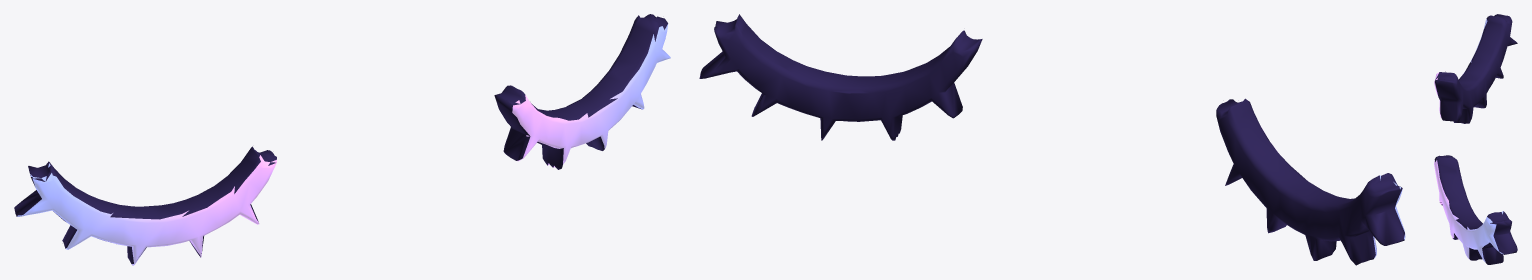
The model's file is eyes-lashes.glb.
3 renders of one model, left to right at view 1: azimuth 30°, elevation 25°; view 2: azimuth 150°, elevation 25°; view 3: azimuth 270°, elevation 25°, orthographic. The views are drawn at different scales.
Visible parts, largest first — view 1: eyes-lashes; view 2: eyes-lashes; view 3: eyes-lashes.
Boxes of the visible parts, <box> form: eyes-lashes: <box>14,14,670,265</box>; eyes-lashes: <box>699,14,1405,265</box>; eyes-lashes: <box>1434,14,1517,264</box>.
Bounding box in the file's own units: 0.4619 × 0.0709 × 0.0765.
